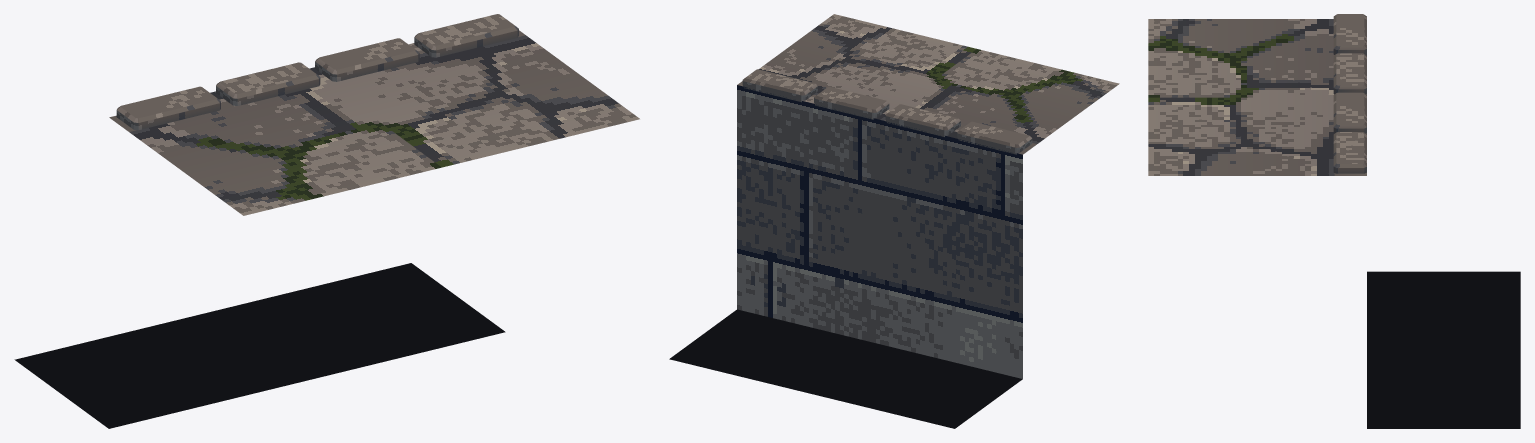
Rendered from dgn.pit__edge.glb.
3 views of the same model, side by side, from view 1: azimuth 30°, elevation 25°; view 2: azimuth 150°, elevation 25°; view 3: azimuth 270°, elevation 25° (orthographic). The views are drawn at different scales.
Parts seen in each view (by area): view 1: kit_shell_floor, kit_card_void, kit_rim; view 2: kit_shell_shaft, kit_shell_floor, kit_card_void, kit_rim; view 3: kit_shell_floor, kit_card_void, kit_rim.
Part boxes in pixels (<box>): kit_shell_floor: <box>109,30,639,215</box>; kit_card_void: <box>14,263,505,428</box>; kit_rim: <box>116,14,518,130</box>; kit_shell_shaft: <box>737,85,1022,378</box>; kit_shell_floor: <box>737,14,1119,154</box>; kit_card_void: <box>669,309,1022,428</box>; kit_rim: <box>742,69,1032,154</box>; kit_shell_floor: <box>1148,19,1366,175</box>; kit_card_void: <box>1367,271,1520,428</box>; kit_rim: <box>1333,14,1366,173</box>.
Size of the model in its own units: 4 by 3.1 by 4.
4 materials, 4 textured.
